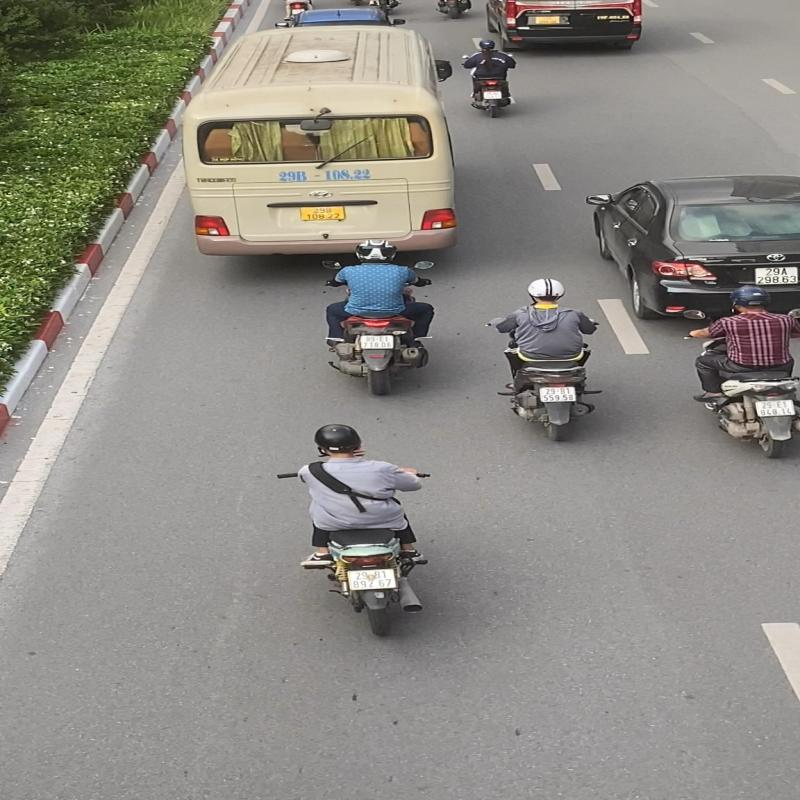helmet: (312, 420, 366, 453), (352, 238, 399, 264), (727, 284, 774, 308), (524, 276, 570, 300)
licenseplate: (342, 566, 401, 592), (752, 398, 798, 419), (537, 384, 578, 404), (356, 334, 398, 350)
